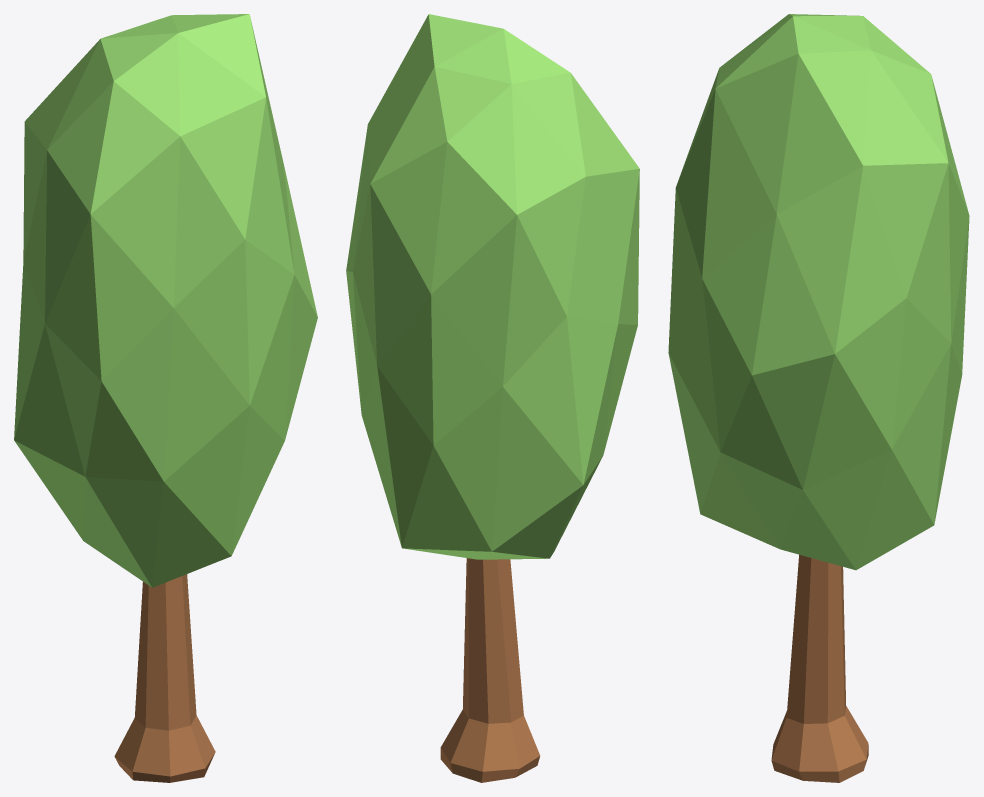
Rendered from Tree9.fbx.
The picture shows the model from 3 angles, left to right: view 1: azimuth 30°, elevation 25°; view 2: azimuth 150°, elevation 25°; view 3: azimuth 270°, elevation 25°; orthographic projection. The views are drawn at different scales.
Parts seen in each view (by area): view 1: Tree9; view 2: Tree9; view 3: Tree9.
Part boxes in pixels (x1,y1,x2,y2): Tree9: (14, 14, 317, 782); Tree9: (346, 14, 639, 782); Tree9: (668, 14, 969, 782).
Size of the model in its own units: 194 by 520 by 189.
